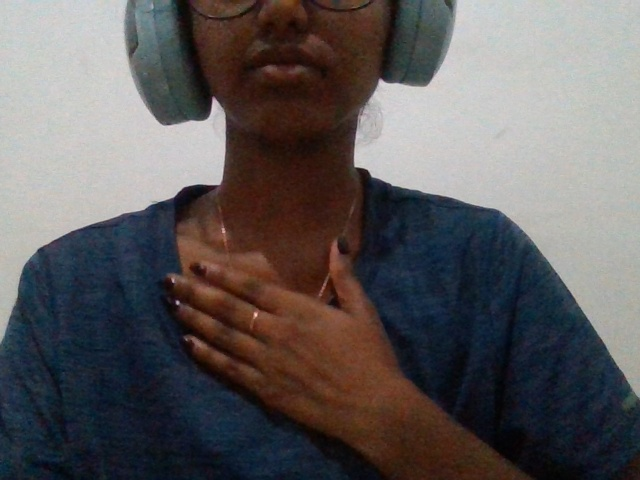Please: (149, 226, 439, 473)
